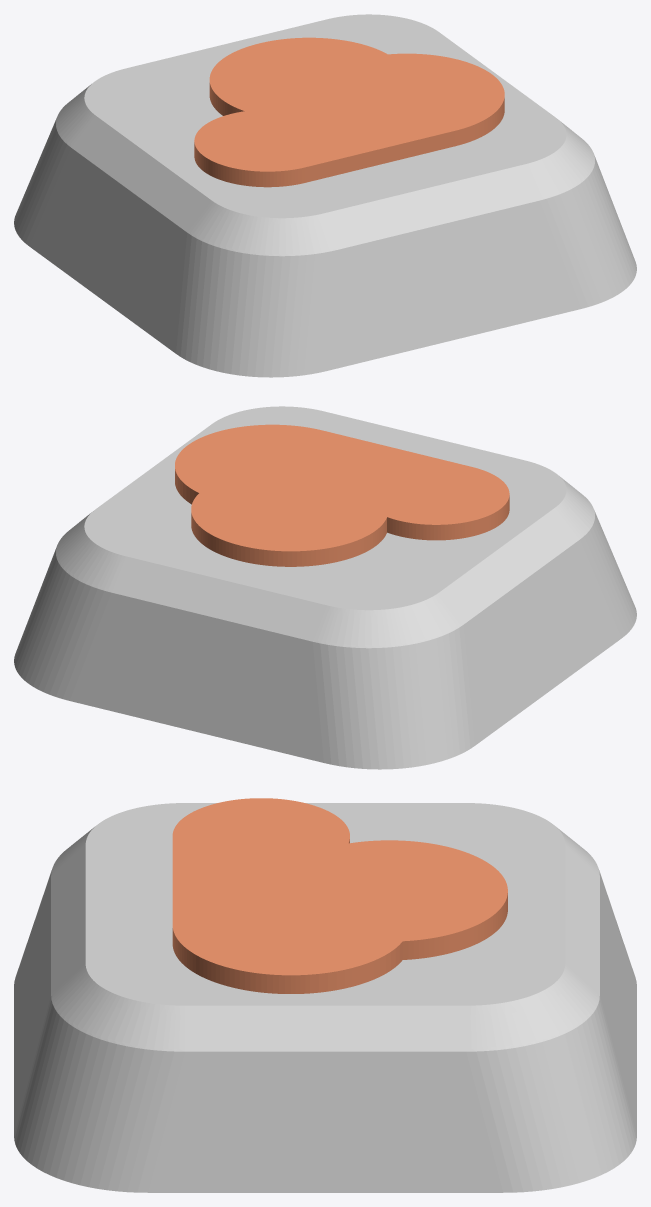
Rendered from cap-cloud.glb.
The picture shows the model from 3 angles, top to bottom: view 1: azimuth 30°, elevation 25°; view 2: azimuth 150°, elevation 25°; view 3: azimuth 270°, elevation 25°; orthographic projection. The views are drawn at different scales.
Visible parts, largest first — view 1: cap_0, glyph_1; view 2: cap_0, glyph_1; view 3: cap_0, glyph_1.
Boxes of the visible parts, box(x1,y1,x2,y2) form: cap_0: box(14, 14, 636, 377); glyph_1: box(194, 37, 504, 187); cap_0: box(14, 406, 636, 769); glyph_1: box(175, 424, 509, 566); cap_0: box(14, 803, 636, 1192); glyph_1: box(172, 798, 507, 993).
Size of the model in its own units: 18 by 5.6 by 18.
